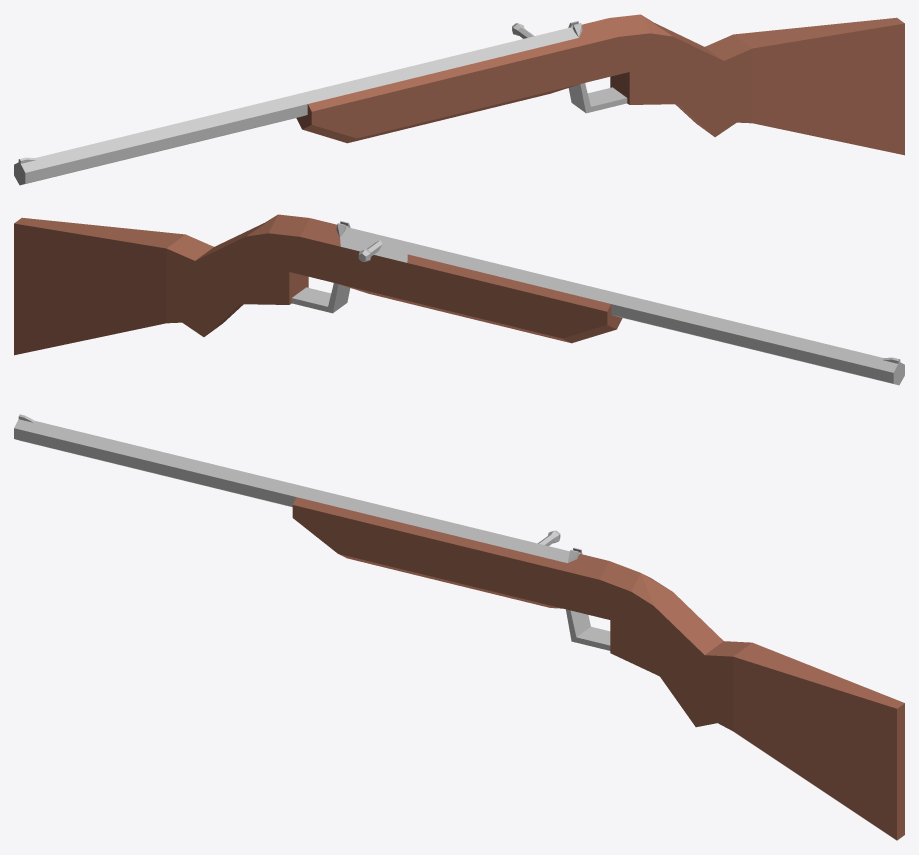
Rendered from HunterRifle.fbx.
3 views of the same model, one above another, from view 1: azimuth 30°, elevation 25°; view 2: azimuth 150°, elevation 25°; view 3: azimuth 330°, elevation 25° (orthographic).
Parts seen in each view (by area): view 1: HunterRifle; view 2: HunterRifle; view 3: HunterRifle.
Part boxes in pixels (<box>): HunterRifle: <box>14,14,904,185</box>; HunterRifle: <box>14,214,904,385</box>; HunterRifle: <box>14,414,904,840</box>.
Size of the model in its own units: 0.7801 by 0.1763 by 0.0463.
